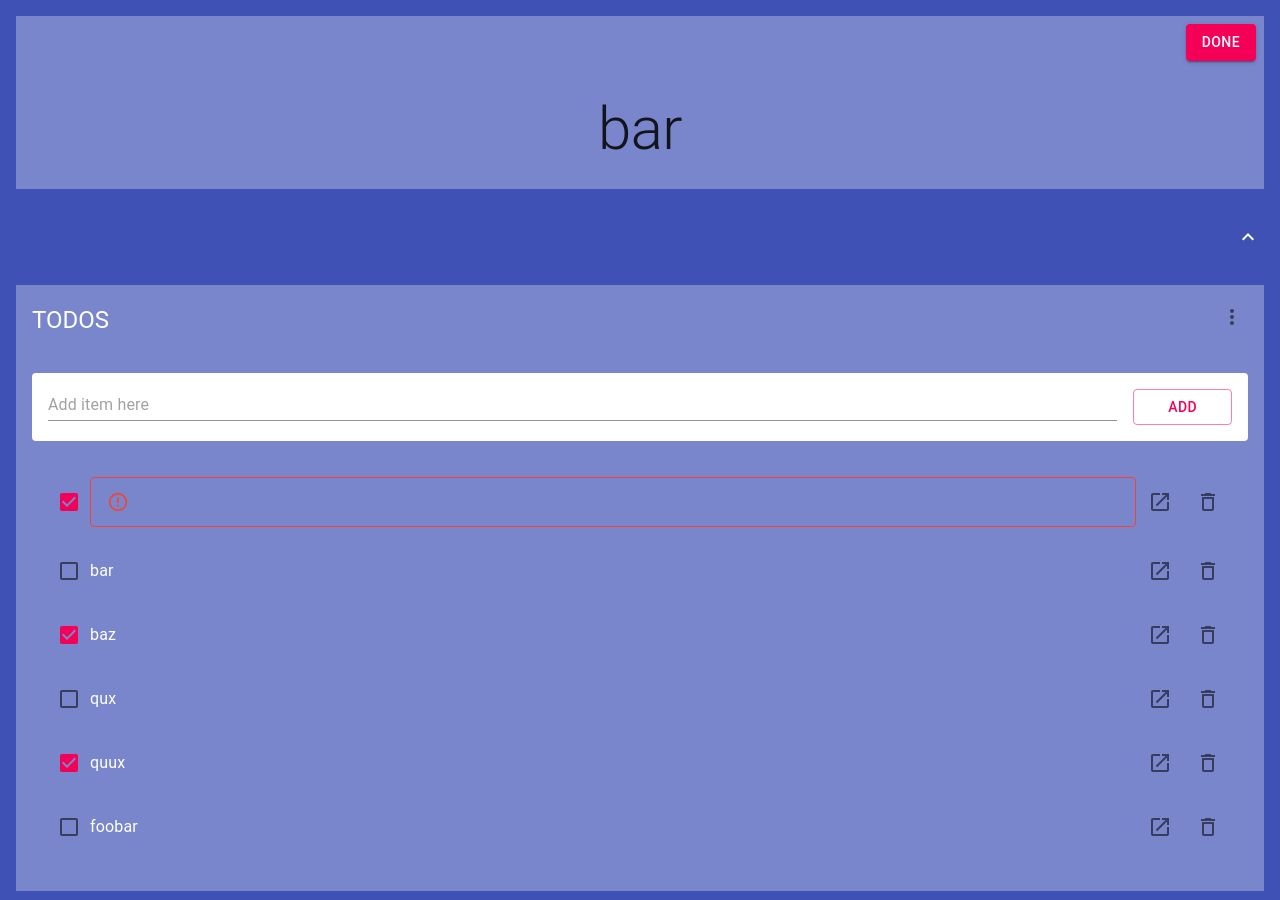
Visibility filters › SHOW_ACTIVE
Click the button named "setting". click: (1232, 316)
box: [1208,292,1256,340]
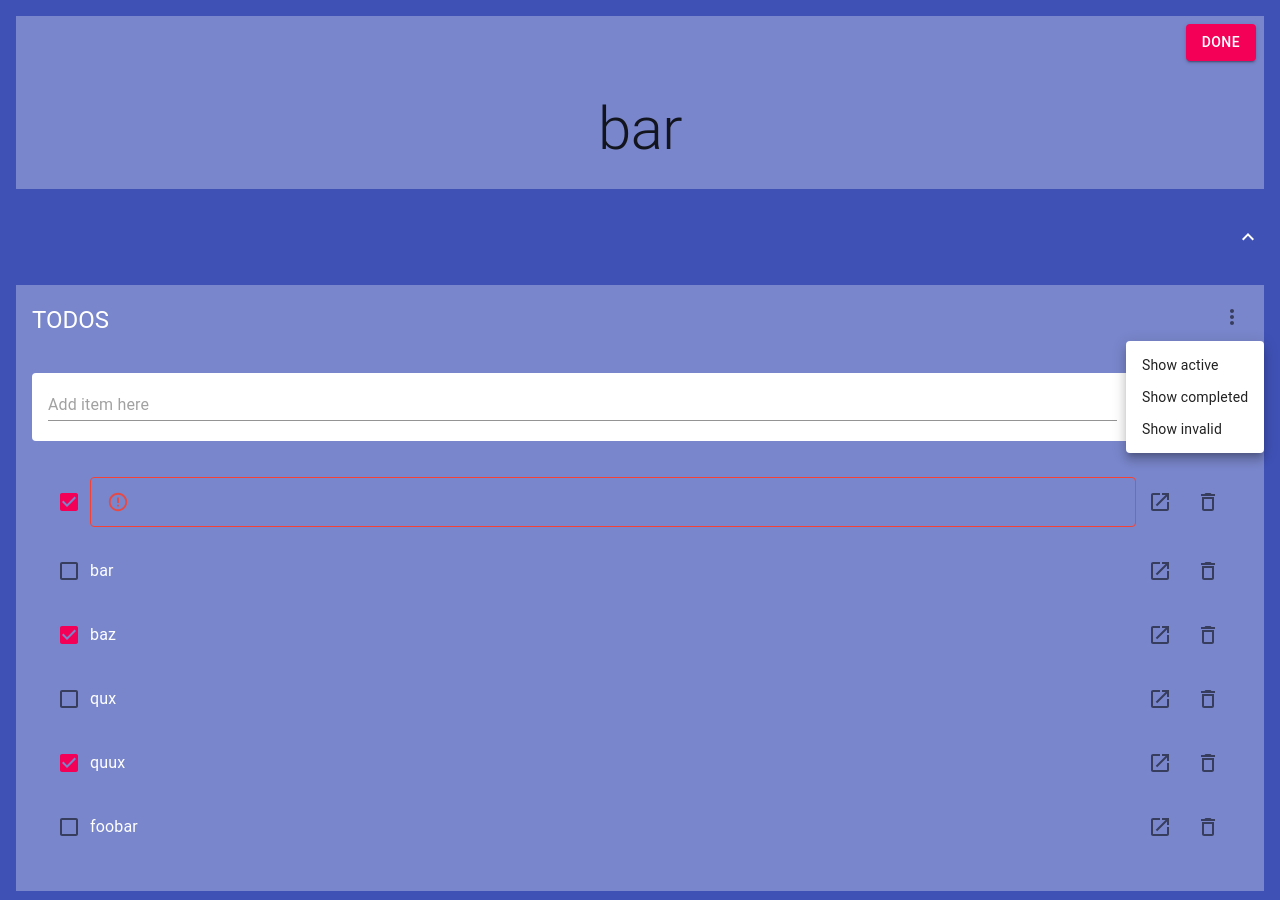
Click the menu item "Show active". click: (1180, 365)
box: [1142,357,1219,373]
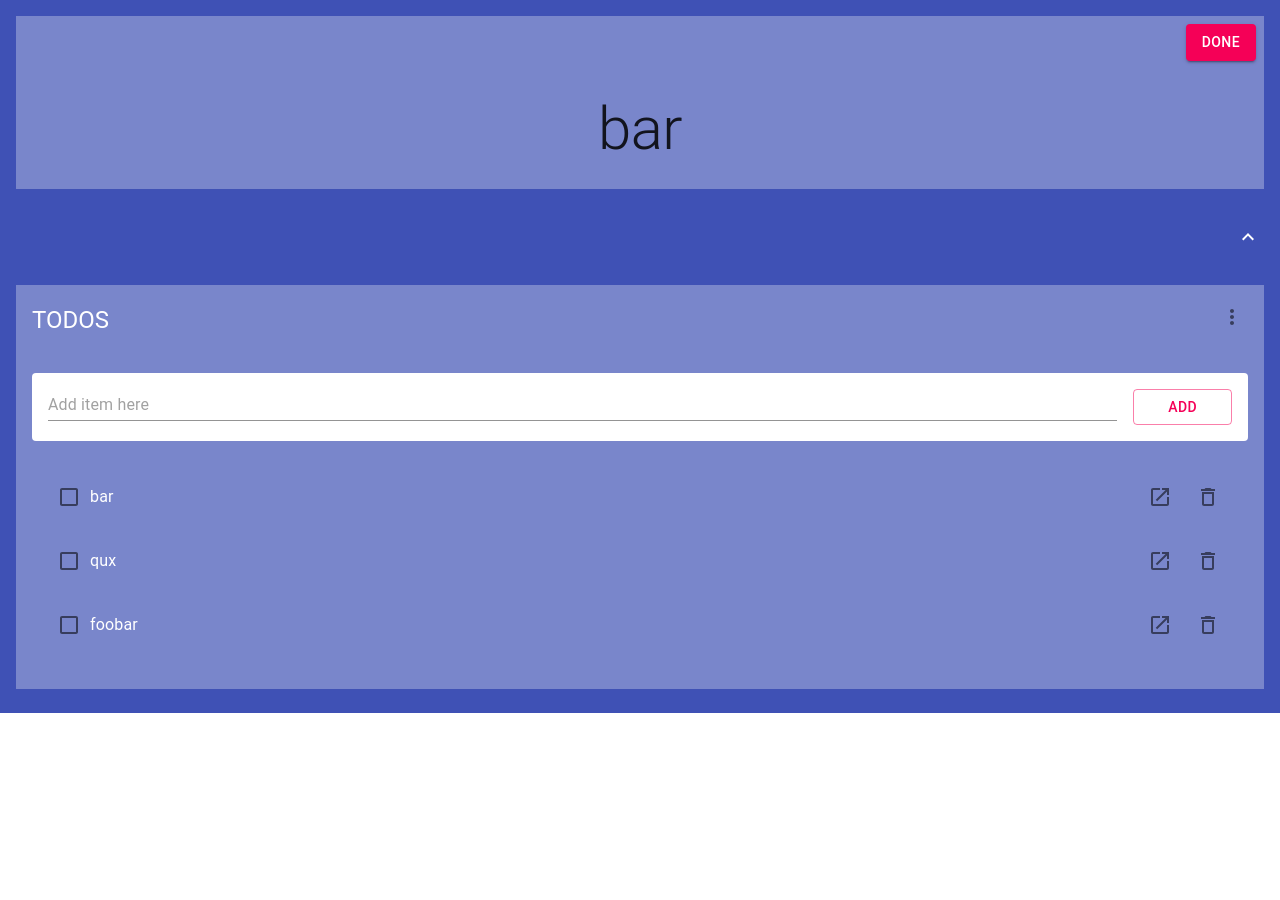
Check: the list items read "bar", "qux", "foobar", in this order, box [32,465,1248,529]; [32,529,1248,593]; [32,593,1248,657]
